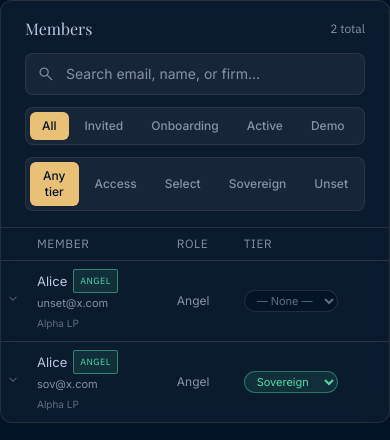
Test: <MembersTable /> — filtering › filters tier=Unset (membership column null/absent)
Click the button "Unset": (331, 184) [302,162,360,206]
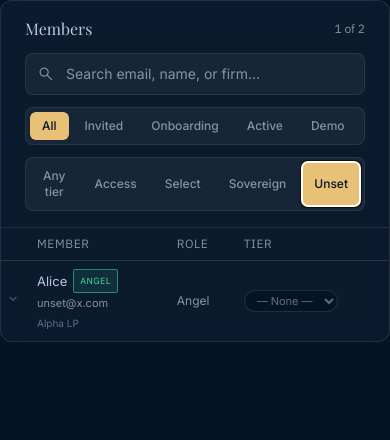
Check: the text "unset@x.com" is shown, box [37,296,108,310]
Check: the text "sov@x.com" is gone
